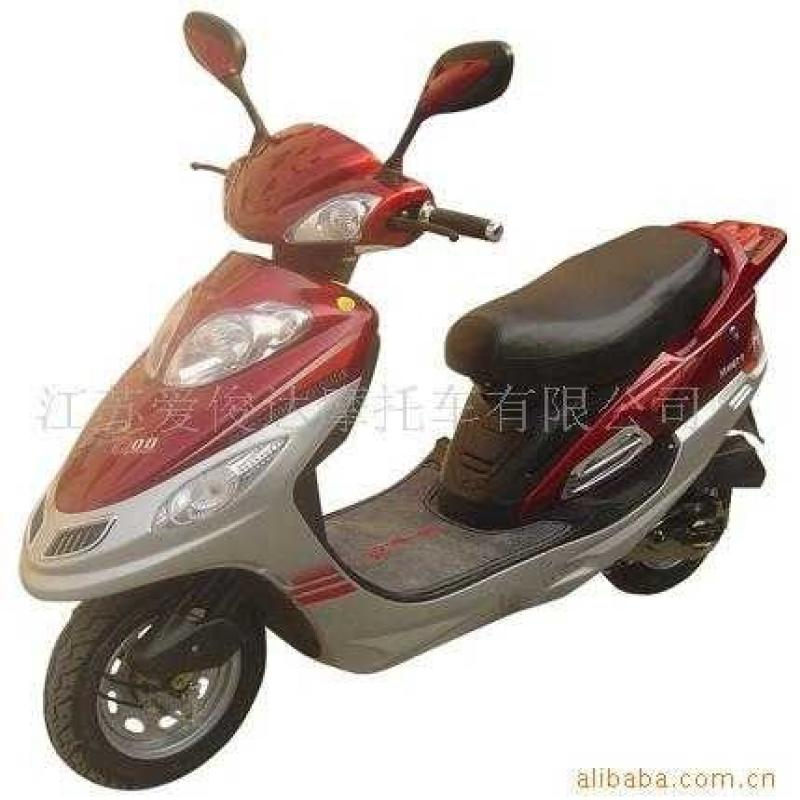bike: (19, 13, 764, 753)
